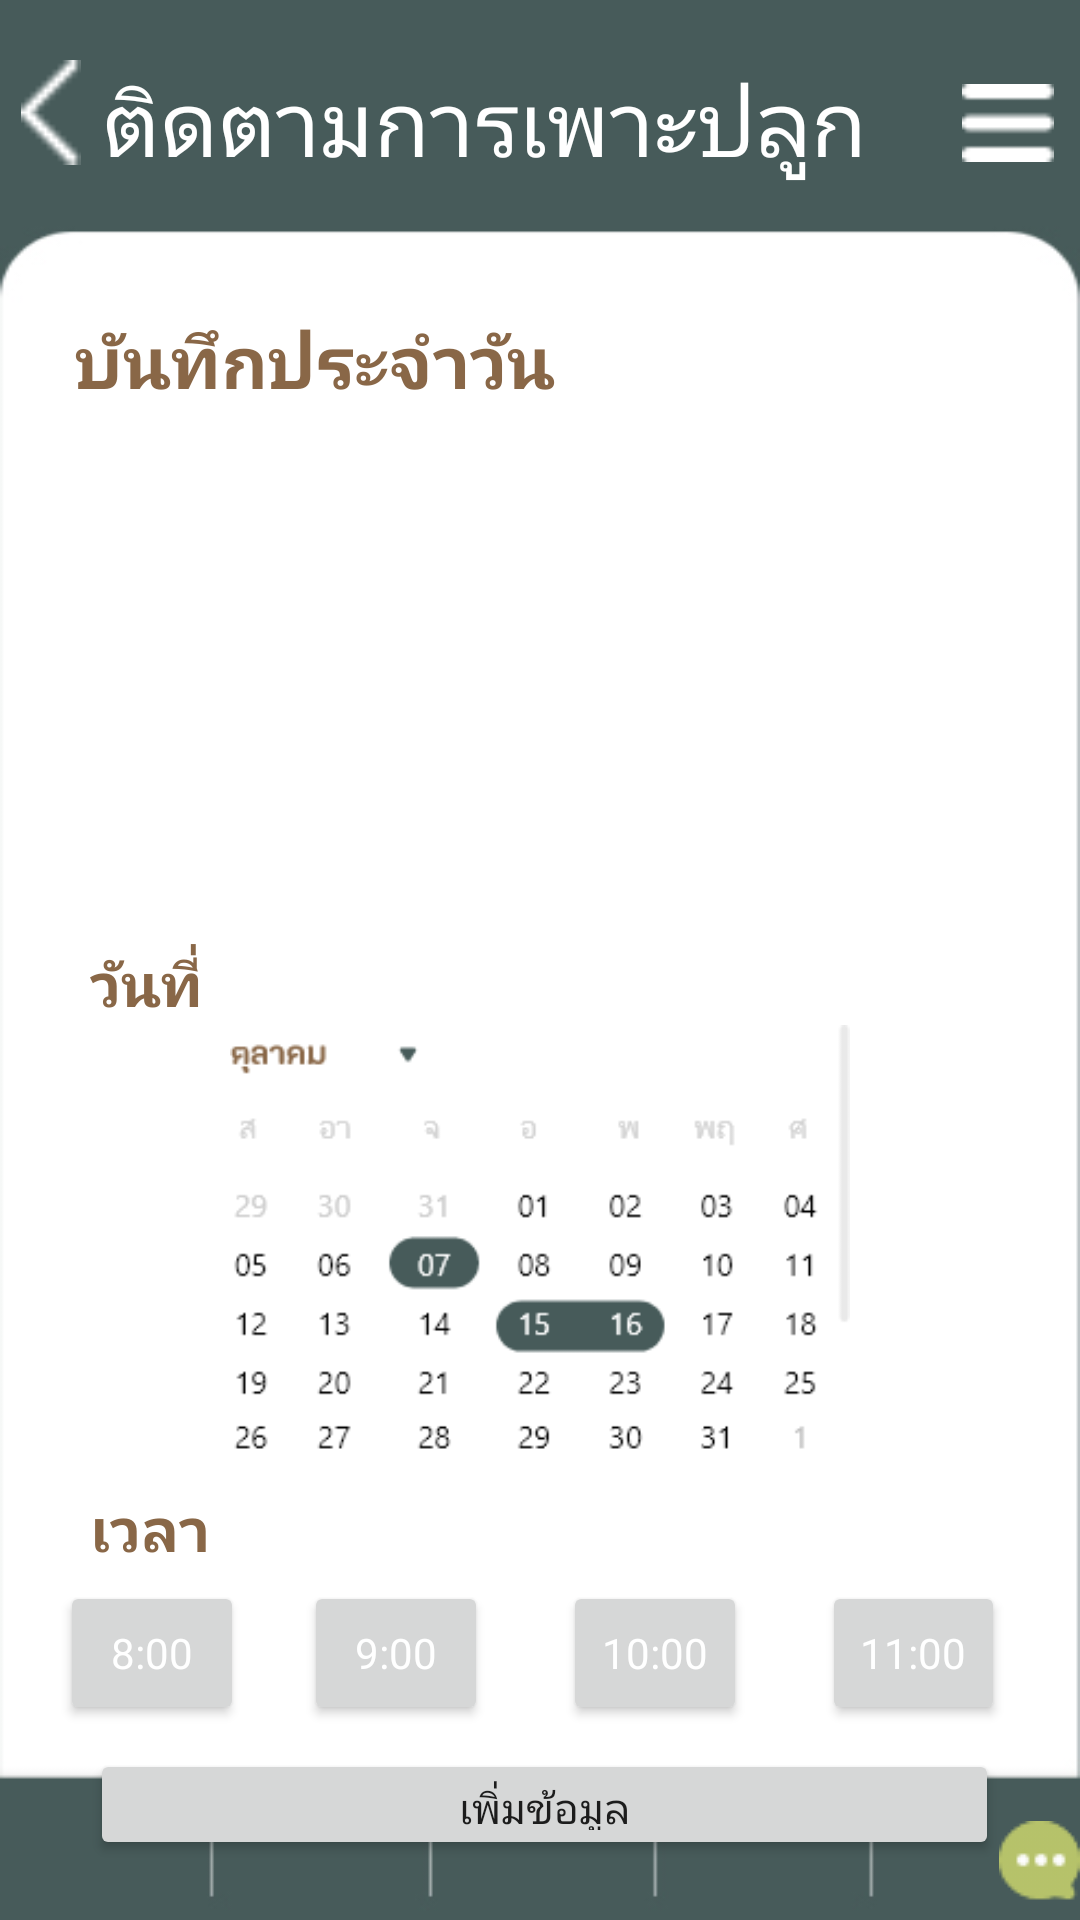

Screen size 1080x1920. Icon name, then its center in pixels as [x,y]:
menusymbol: [1008,123]
